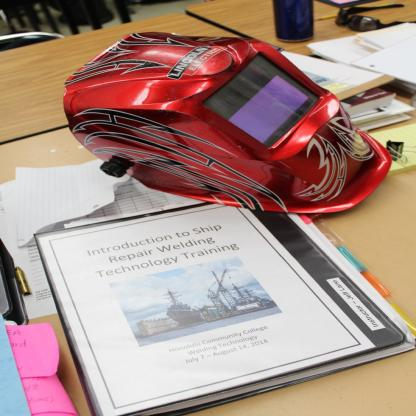Helmet: (58, 38, 392, 212)
